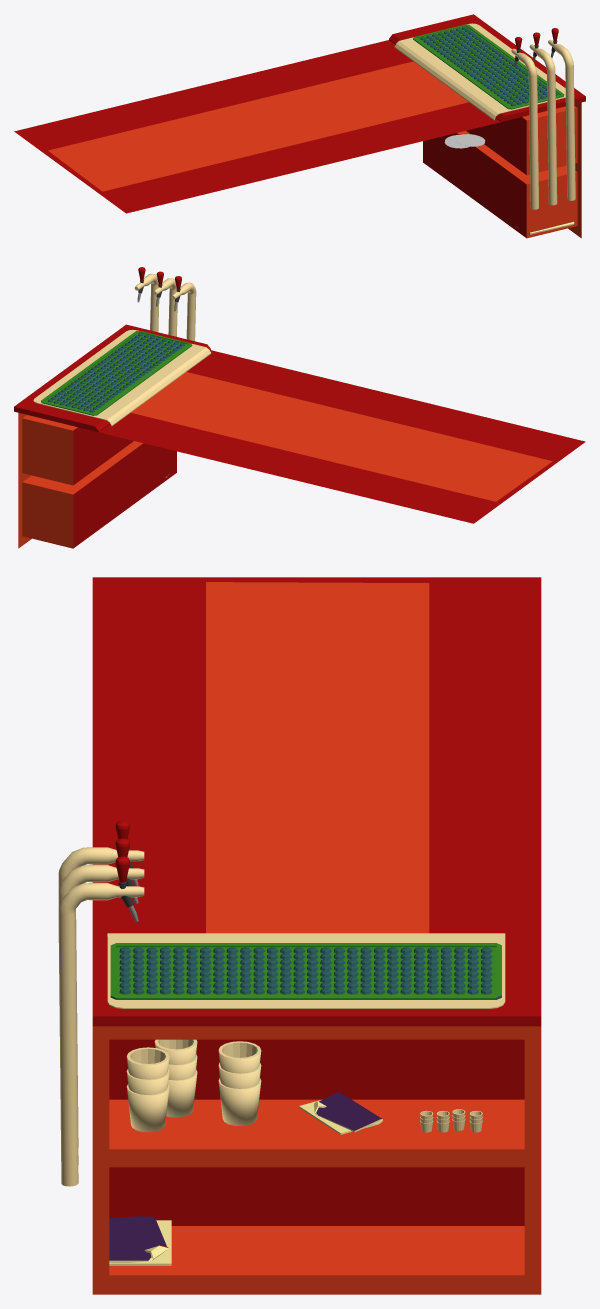
File: Table_red.FBX
The picture shows the model from 3 angles, top to bottom: view 1: azimuth 30°, elevation 25°; view 2: azimuth 150°, elevation 25°; view 3: azimuth 270°, elevation 25°; orthographic projection. The views are drawn at different scales.
Parts seen in each view (by area): view 1: stol, bigpodstavka, skatert, kran.000, kran.002, kran.001, Podstavkapodkrygky.002; view 2: stol, bigpodstavka, skatert, kran.001, kran.002, kran.000; view 3: stol, bigpodstavka, skatert, kran.002, Cylinder.002, stakan, Plane.001, Cylinder.001, tryapka, kran.000, kran.001.
Part boxes in pixels (box(x1,y1,x2,y2)): stol: box(14, 14, 585, 238); bigpodstavka: box(413, 24, 564, 109); skatert: box(394, 23, 565, 120); kran.000: box(529, 32, 557, 205); kran.002: box(548, 28, 575, 200); kran.001: box(511, 37, 538, 209); Podstavkapodkrygky.002: box(455, 134, 485, 146); stol: box(14, 324, 585, 548); bigpodstavka: box(41, 330, 192, 415); skatert: box(33, 330, 211, 426); kran.001: box(171, 276, 196, 341); kran.002: box(134, 267, 159, 332); kran.000: box(153, 271, 177, 336); stol: box(92, 577, 541, 1294); bigpodstavka: box(110, 943, 501, 999); skatert: box(107, 933, 505, 1008); kran.002: box(58, 856, 144, 1186); Cylinder.002: box(218, 1041, 261, 1126); stakan: box(126, 1047, 169, 1132); Plane.001: box(109, 1216, 171, 1265); Cylinder.001: box(154, 1039, 197, 1117); tryapka: box(299, 1092, 382, 1134); kran.000: box(58, 838, 144, 1164); kran.001: box(58, 820, 144, 1147).
Size of the model in its own units: 7065 by 3074 by 3214.
